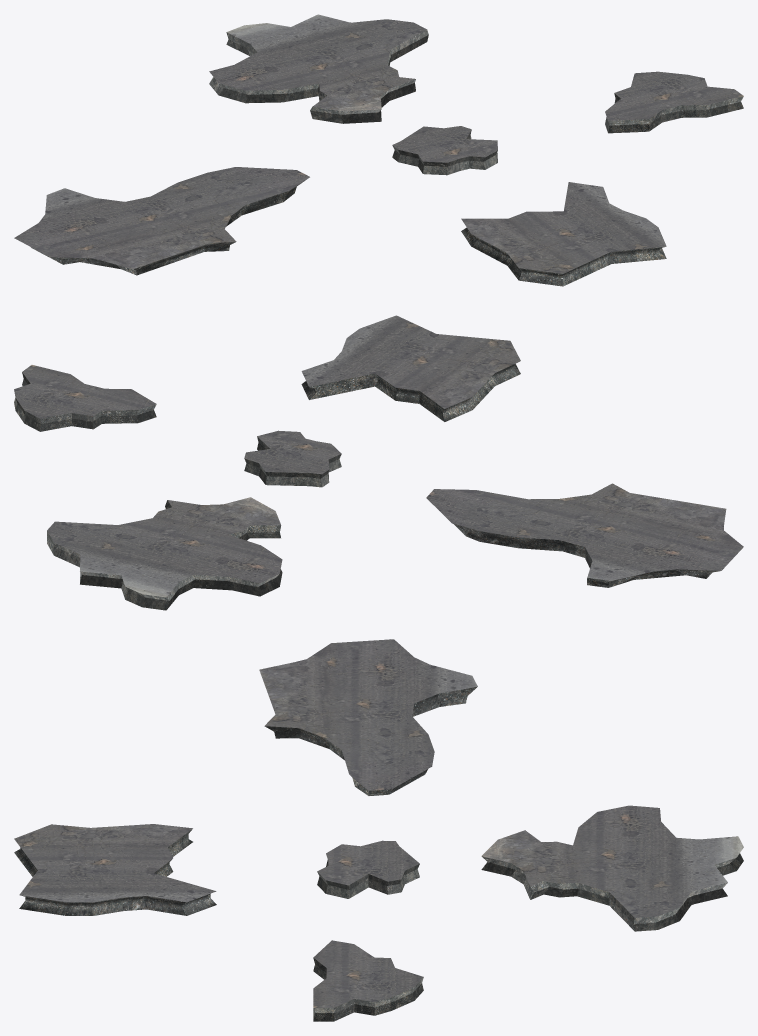
Rendered from AsphaltPiece.fbx.
3 renders of one model, top to bottom at view 1: azimuth 30°, elevation 25°; view 2: azimuth 150°, elevation 25°; view 3: azimuth 270°, elevation 25°, orthographic. The views are drawn at different scales.
Visible parts, largest first — view 1: AsphaltPiece01, AsphaltPiece02, AsphaltPiece03, AsphaltPiece04, AsphaltPiece05; view 2: AsphaltPiece01, AsphaltPiece02, AsphaltPiece03, AsphaltPiece04, AsphaltPiece05; view 3: AsphaltPiece01, AsphaltPiece02, AsphaltPiece03, AsphaltPiece04, AsphaltPiece05.
Part boxes in pixels (x1,y1,x2,y2): AsphaltPiece01: [14, 167, 309, 275]; AsphaltPiece02: [209, 14, 428, 123]; AsphaltPiece03: [461, 182, 666, 286]; AsphaltPiece04: [605, 71, 743, 133]; AsphaltPiece05: [392, 126, 497, 175]; AsphaltPiece01: [426, 483, 743, 587]; AsphaltPiece02: [47, 497, 282, 610]; AsphaltPiece03: [301, 315, 520, 421]; AsphaltPiece04: [14, 365, 156, 431]; AsphaltPiece05: [244, 430, 341, 487]; AsphaltPiece01: [259, 639, 477, 795]; AsphaltPiece02: [481, 805, 743, 931]; AsphaltPiece03: [14, 824, 216, 915]; AsphaltPiece04: [313, 940, 423, 1021]; AsphaltPiece05: [317, 840, 419, 898].
Size of the model in its own units: 3.63 by 0.0626 by 3.04.
2 materials, 2 textured.
